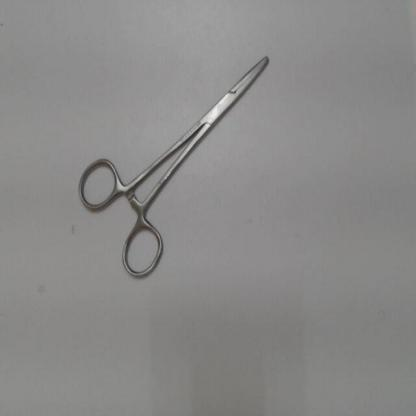Mayo Needle Holder: (69, 32, 293, 289)
